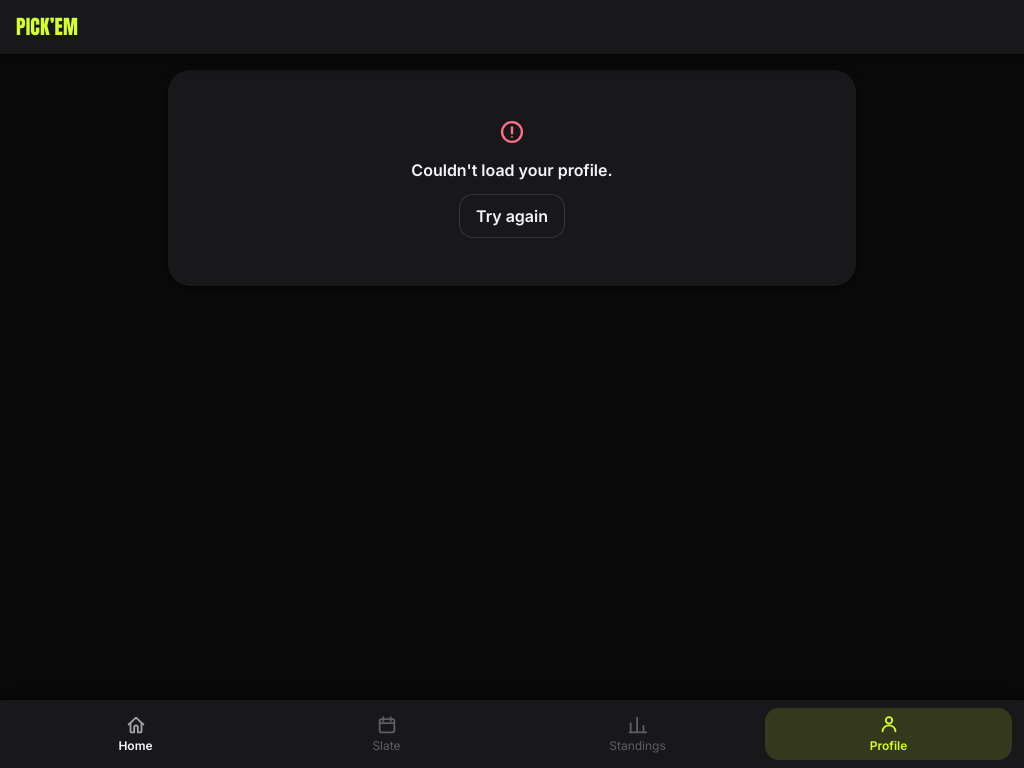
it: ProfileScreen › shows an error state with retry on load failure
This screenshot has width=1024, height=768.
Expected: the text "Couldn't load your profile." is shown, left=411, top=158, right=613, bottom=182
Click the button "Try again": coordinates (512, 216) left=459, top=194, right=565, bottom=238
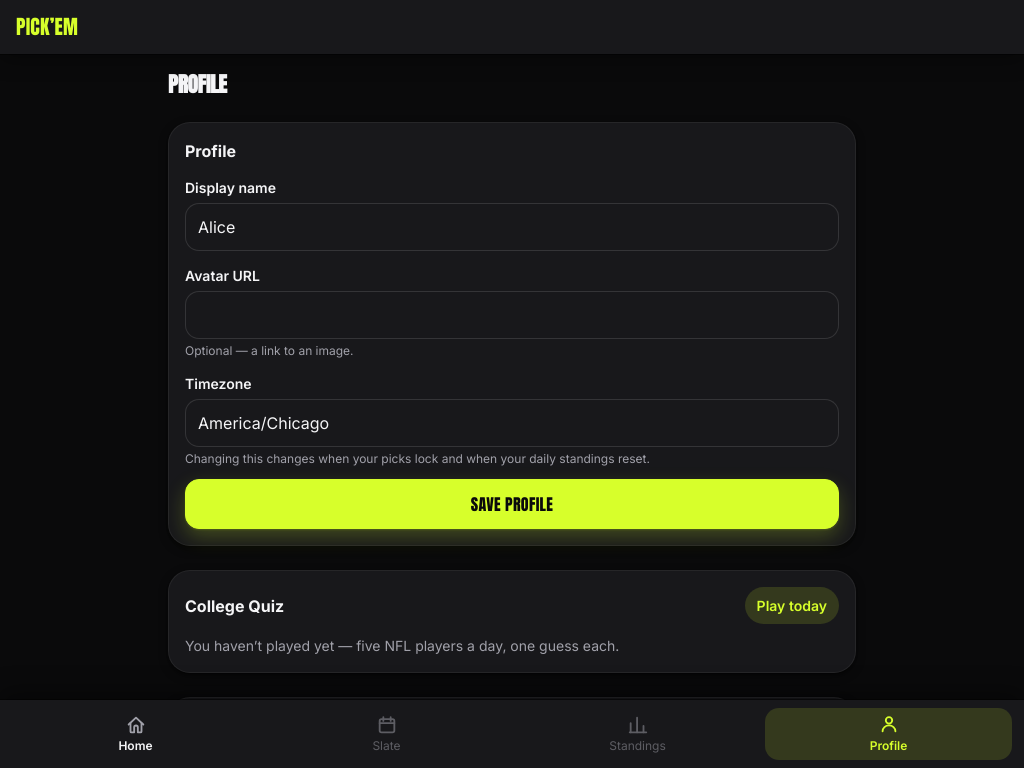
Result: the field showing "Alice" is shown at left=185, top=203, right=839, bottom=251
